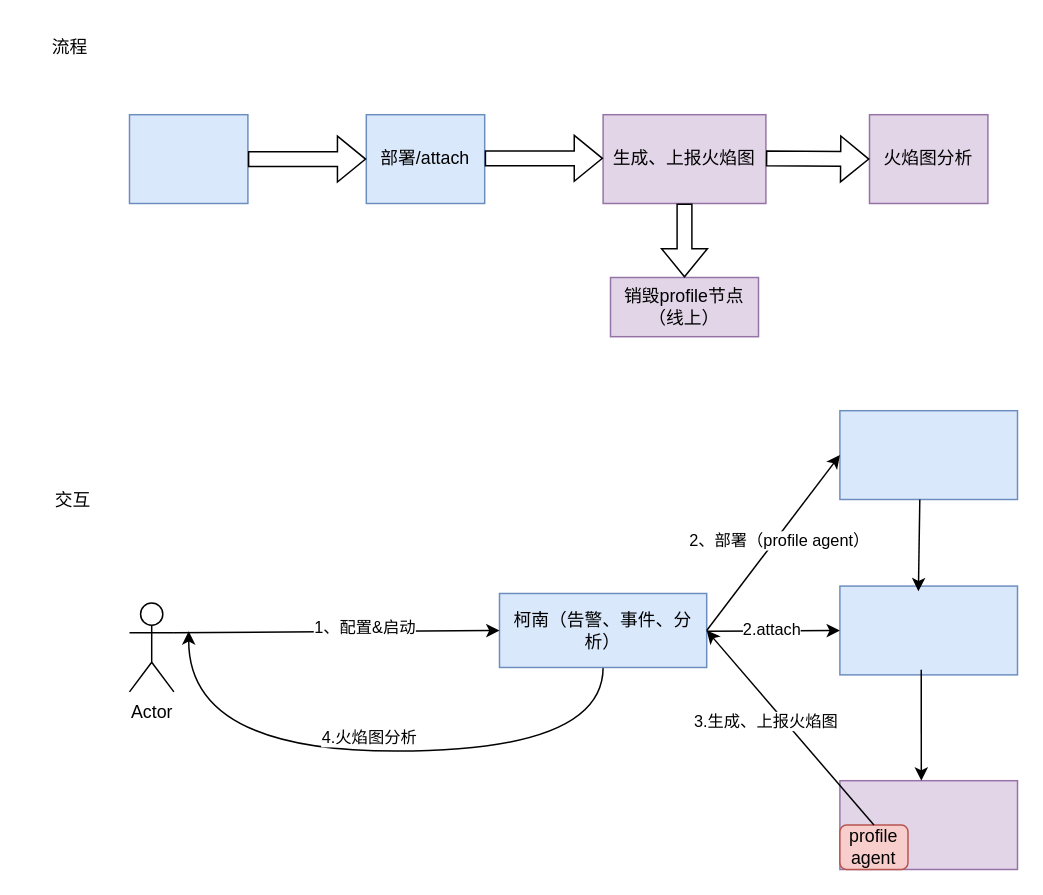
The diagram is 1043 pixels wide and 895 high, and some of its shapes have lost their labels. Here are the shapes that lost their labels. From the top down, the box of each, then its label:
(128, 113, 248, 204): profile配置
(838, 409, 1018, 500): qa/发布平台
(838, 585, 1018, 675): 云平台
(838, 779, 1018, 870): app
